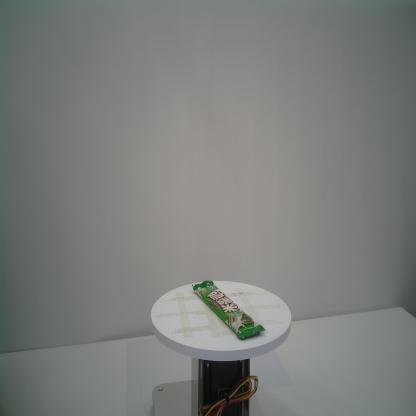Chocolate: (190, 276, 266, 342)
